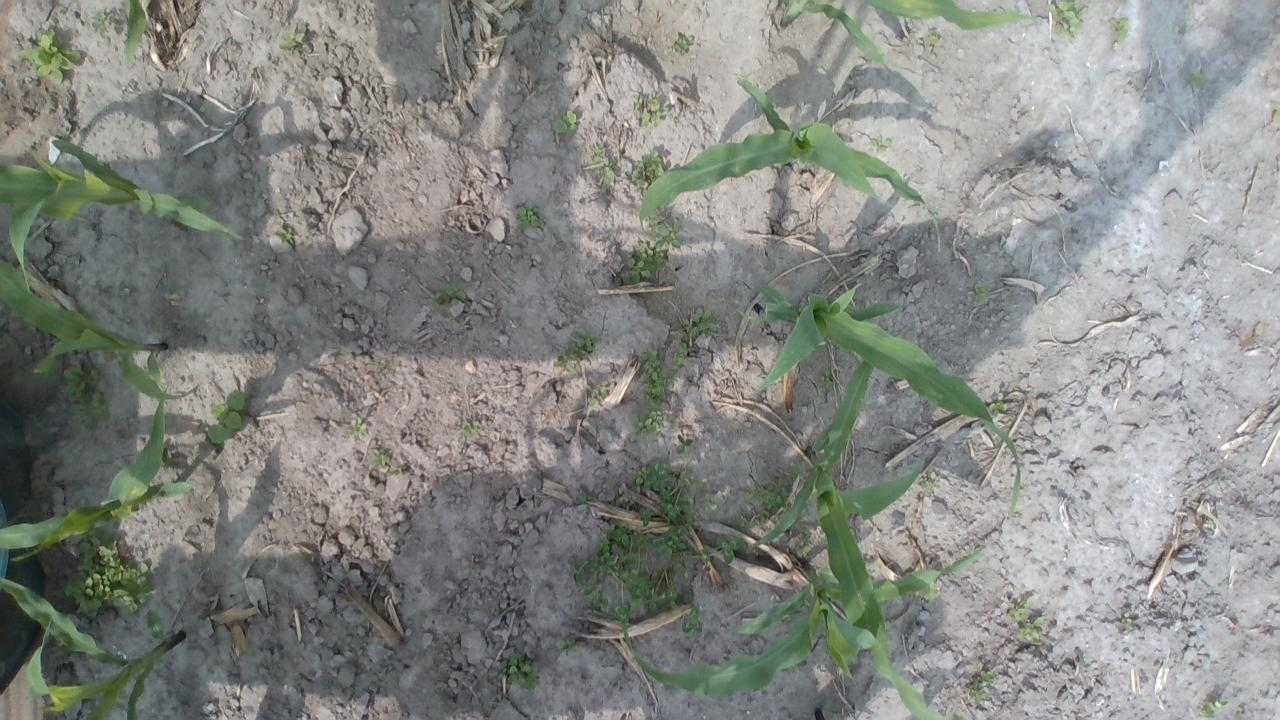Maize: (751, 360, 961, 720), (754, 280, 1021, 512), (625, 544, 990, 699), (638, 79, 930, 228), (0, 135, 247, 295), (0, 384, 196, 560), (0, 258, 200, 400), (0, 577, 186, 720), (778, 0, 1048, 74), (124, 0, 147, 68)
Weeds: (629, 460, 745, 576), (586, 524, 704, 634), (65, 537, 153, 616), (17, 30, 81, 85), (204, 390, 256, 444), (1006, 592, 1044, 643), (1046, 0, 1089, 45), (628, 241, 670, 285), (640, 348, 670, 406), (624, 150, 666, 188), (746, 481, 792, 512), (500, 654, 538, 691), (652, 203, 682, 249), (428, 282, 470, 314), (632, 94, 670, 128), (366, 443, 406, 474), (630, 406, 664, 442), (63, 363, 98, 397), (72, 391, 110, 422), (588, 144, 616, 184), (964, 670, 994, 707), (513, 201, 544, 235), (684, 307, 718, 337), (570, 559, 596, 596), (554, 346, 582, 376), (279, 30, 308, 58), (92, 8, 115, 40), (572, 329, 598, 356), (738, 508, 768, 531), (773, 462, 800, 485), (553, 110, 578, 134), (669, 32, 694, 54), (346, 418, 371, 440), (556, 638, 586, 656), (460, 418, 482, 442), (586, 384, 608, 408), (1188, 66, 1208, 92), (989, 392, 1009, 418), (1201, 700, 1228, 718), (816, 370, 838, 391), (968, 280, 989, 302), (920, 581, 941, 602), (1110, 18, 1130, 40), (672, 341, 690, 365), (870, 134, 891, 154), (278, 226, 295, 246), (702, 492, 718, 513), (678, 433, 692, 454), (575, 488, 591, 506), (922, 474, 938, 491), (797, 542, 813, 558), (1270, 99, 1280, 124), (1121, 612, 1133, 630), (374, 362, 388, 374), (925, 34, 938, 45)
